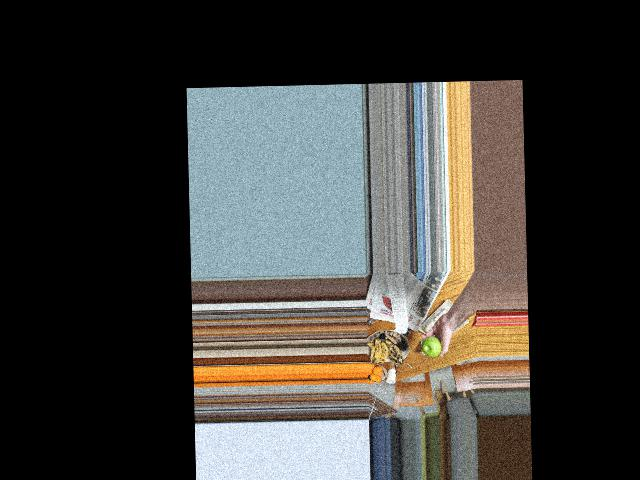apple: (422, 334, 442, 358)
